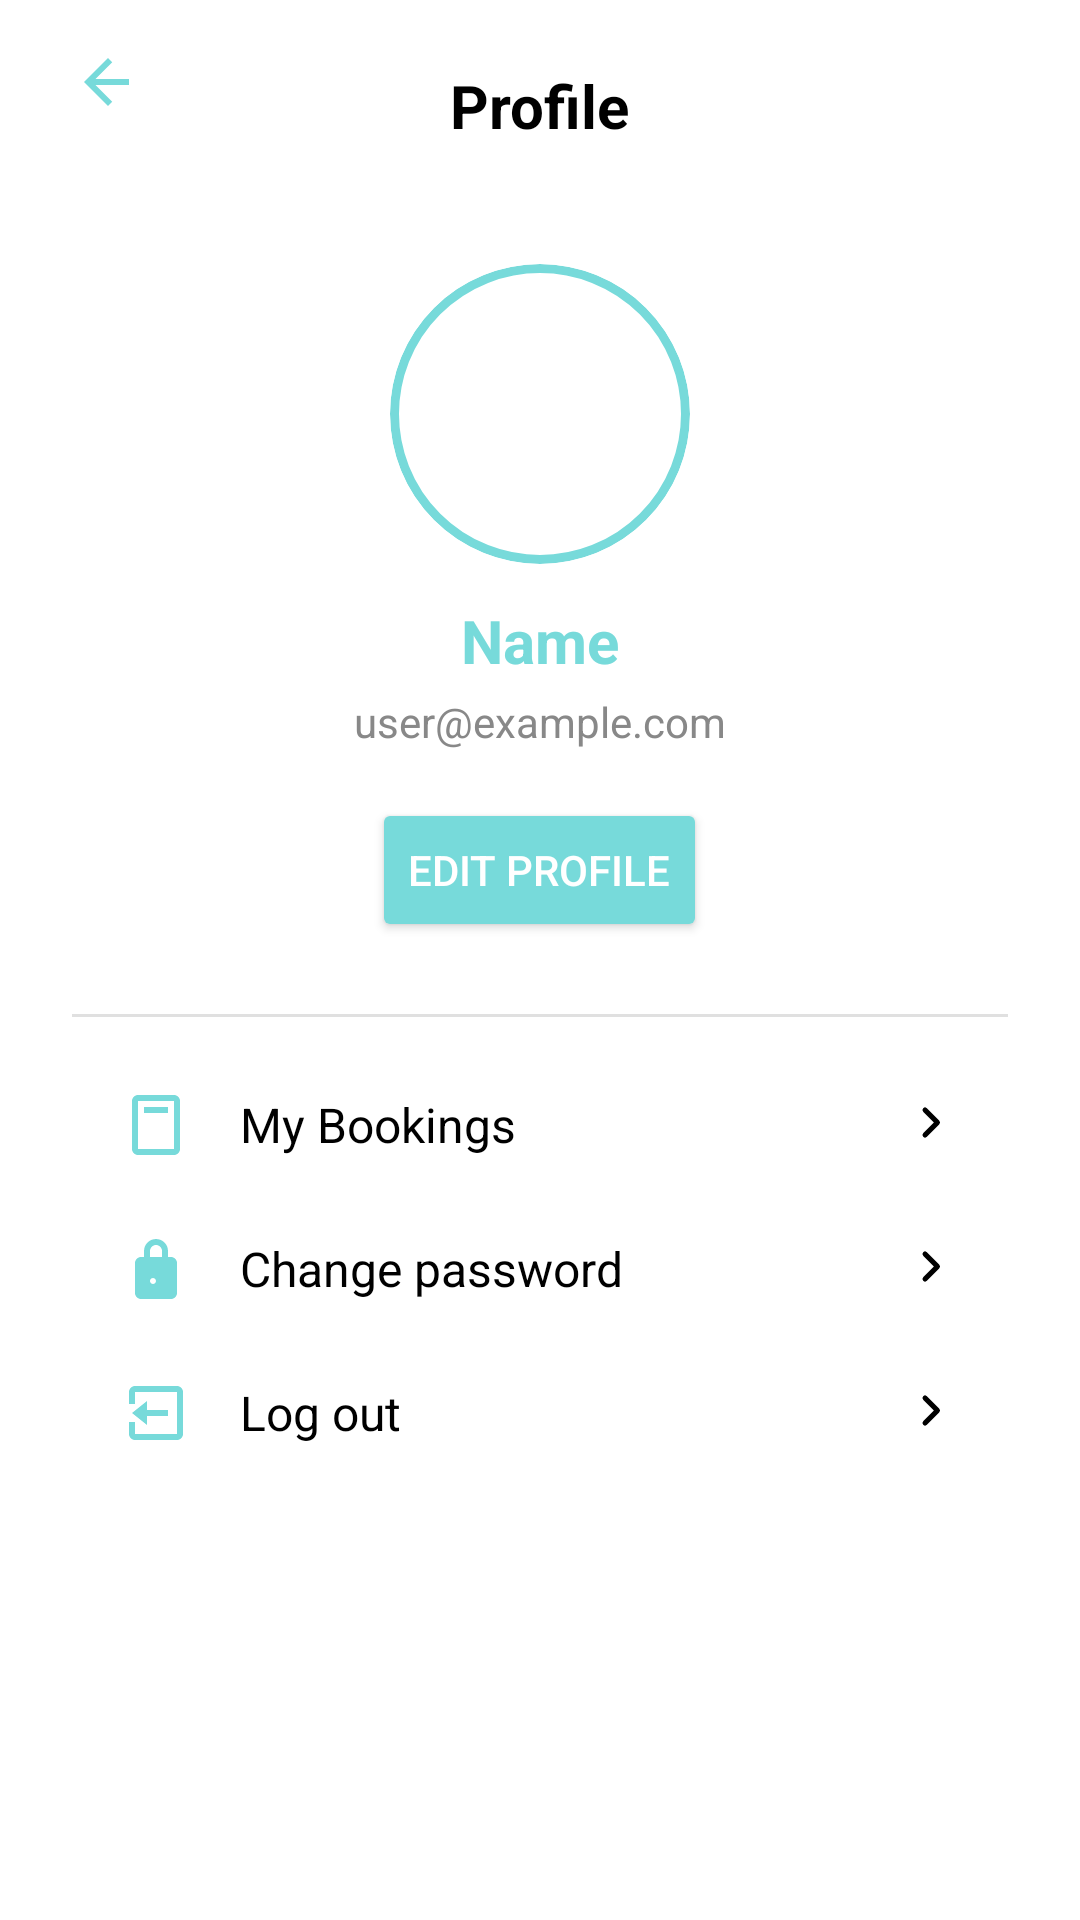

Locate icon controls on the screen. Image size 1080 x 1920, boxes as rect(x1, y1, x2, y2).
Back: rect(84, 58, 129, 106)
Chevron Right: rect(922, 1107, 940, 1138), rect(922, 1251, 940, 1282), rect(922, 1395, 940, 1426)
